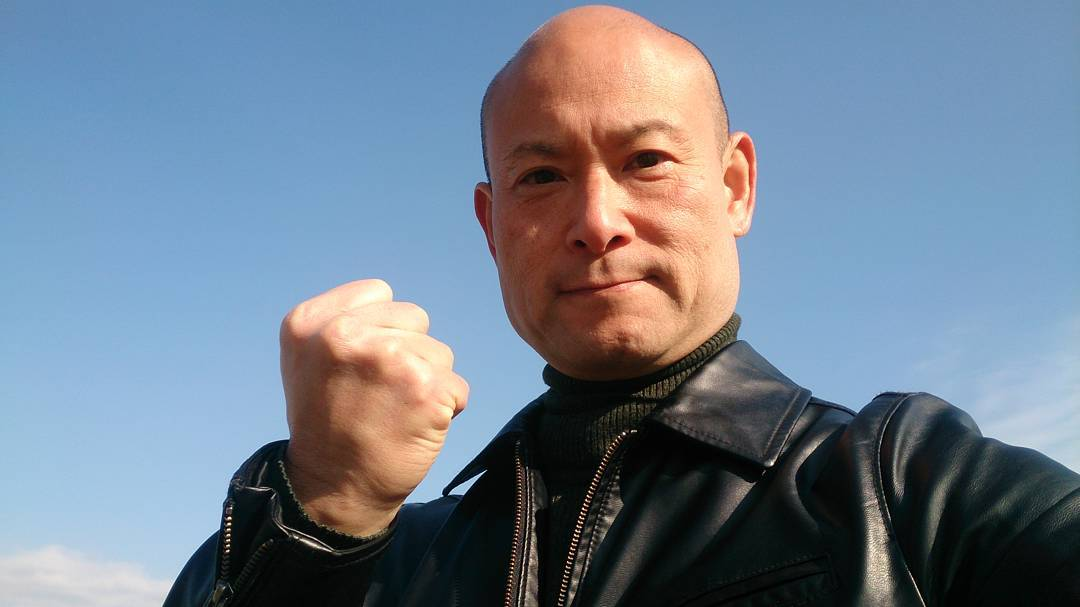hand: (297, 295, 464, 508)
